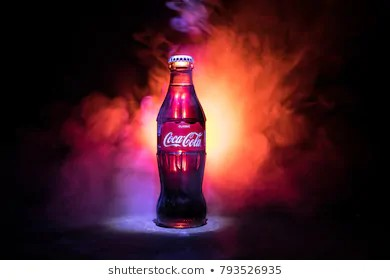coke-glass-bottle: (152, 52, 210, 229)
